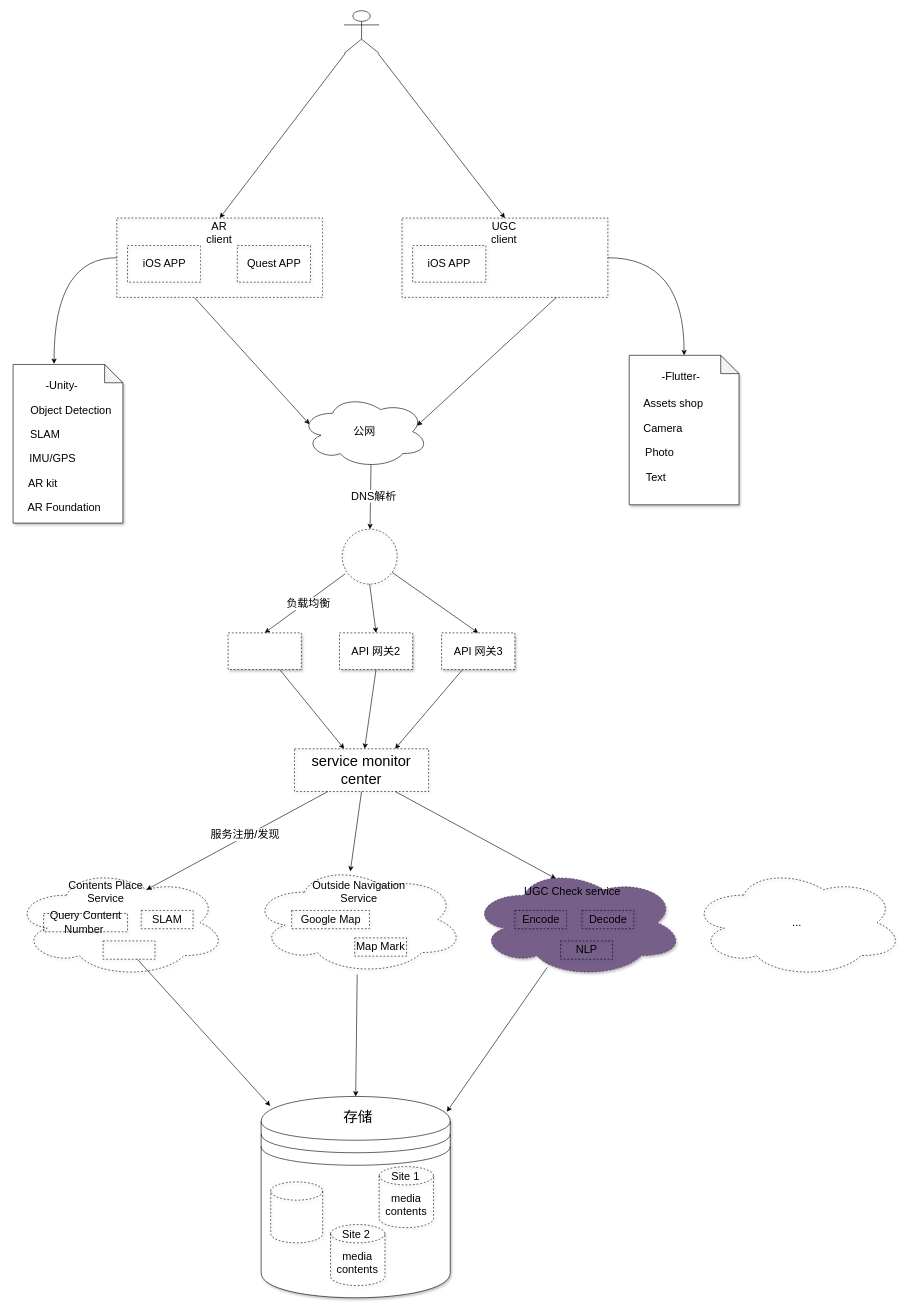
The diagram is 918 pixels wide and 1313 high, and some of its shapes have lost their labels. Here are the shapes that lost their labels. From the top down, the centre of each, then its label:
At (361,31): "User".
At (370,557): "反向代理".
At (265,652): "API 网关1".
At (129,950): "Get the Content".
At (297,1213): "user data".
